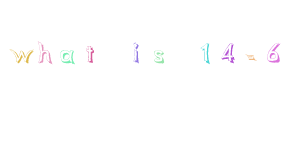-: (244, 52, 258, 64)
1: (199, 40, 212, 65)
4: (219, 40, 235, 64)
6: (265, 41, 283, 64)
a: (58, 48, 76, 66)
h: (37, 39, 53, 64)
i: (129, 40, 143, 64)
s: (152, 47, 166, 65)
t: (84, 43, 96, 66)
w: (9, 46, 34, 65)
